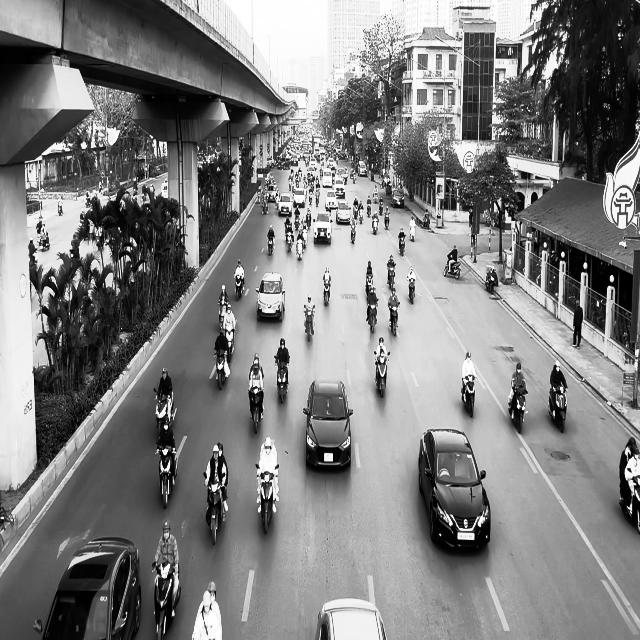car: (33, 536, 142, 639), (418, 427, 492, 551), (303, 380, 354, 470), (314, 598, 388, 640), (255, 271, 286, 322), (313, 210, 333, 244), (336, 200, 351, 224), (391, 188, 405, 207)
motorbike: (152, 562, 181, 640), (256, 463, 279, 534), (619, 455, 640, 532), (205, 476, 228, 544), (156, 444, 178, 508), (508, 381, 528, 433), (548, 383, 568, 432), (154, 388, 177, 430), (374, 349, 391, 397), (248, 386, 264, 434), (274, 356, 290, 403), (214, 348, 231, 390), (462, 375, 476, 417), (366, 297, 378, 333), (224, 326, 236, 362), (443, 256, 461, 279), (304, 306, 315, 342), (389, 301, 400, 336), (485, 266, 498, 294), (37, 228, 50, 250), (235, 272, 245, 300), (387, 263, 397, 289), (324, 278, 332, 306), (408, 278, 416, 304), (366, 273, 374, 298), (267, 234, 275, 255), (399, 236, 406, 256), (384, 210, 390, 229), (410, 223, 416, 241)
